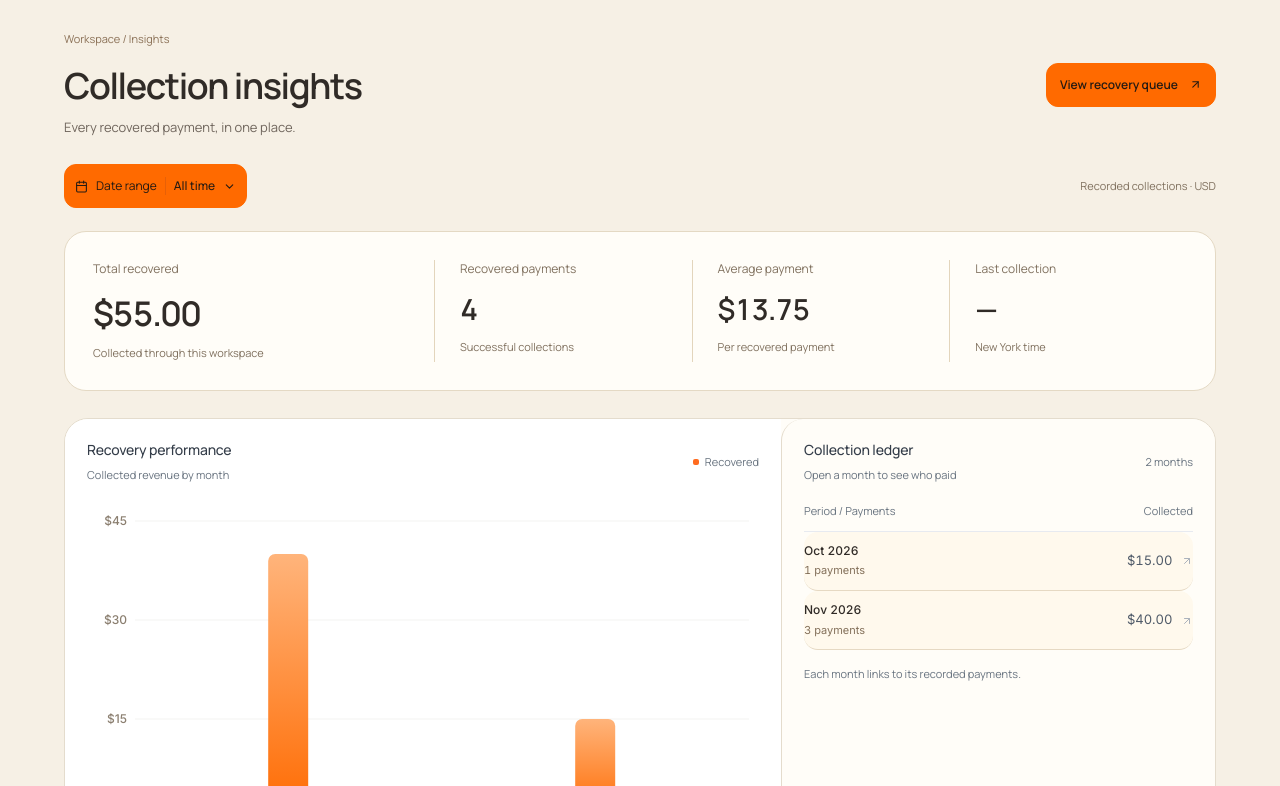
it: historical gaps and request failures are explicit instead of invented details
This screenshot has width=1280, height=786.
What coordinates should you click on to do the following:
click the button "Nov 2026 3 payments $40.00"
I would click on:
 (833, 609)
Its box is [804,591,1193,650].
(page scrolled)
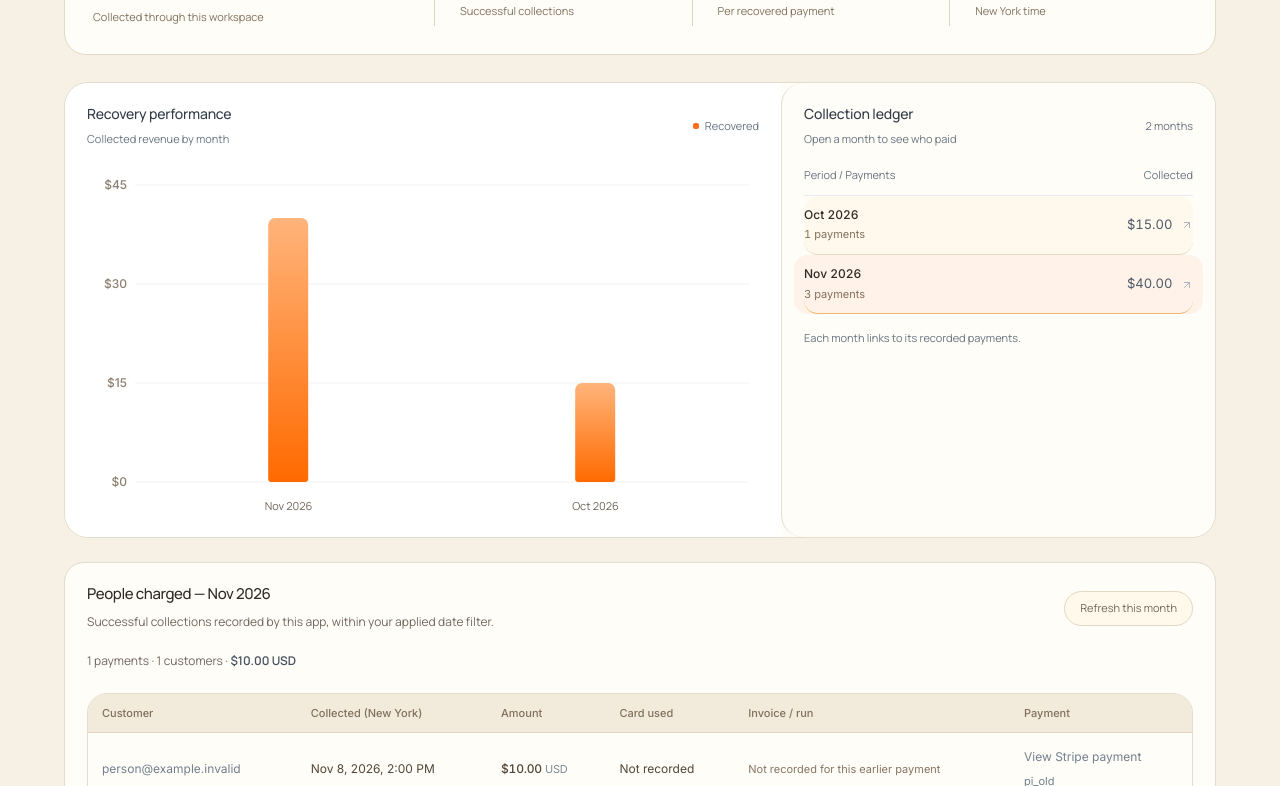
Check: the text "Not recorded for this earlier payment" is shown, box [748,762,940,776]
What coordinates should you click on to do the following:
click the button "Oct 2026 1 payments $15.00"
I would click on:
 (831, 214)
Its box is [804,196,1193,255].
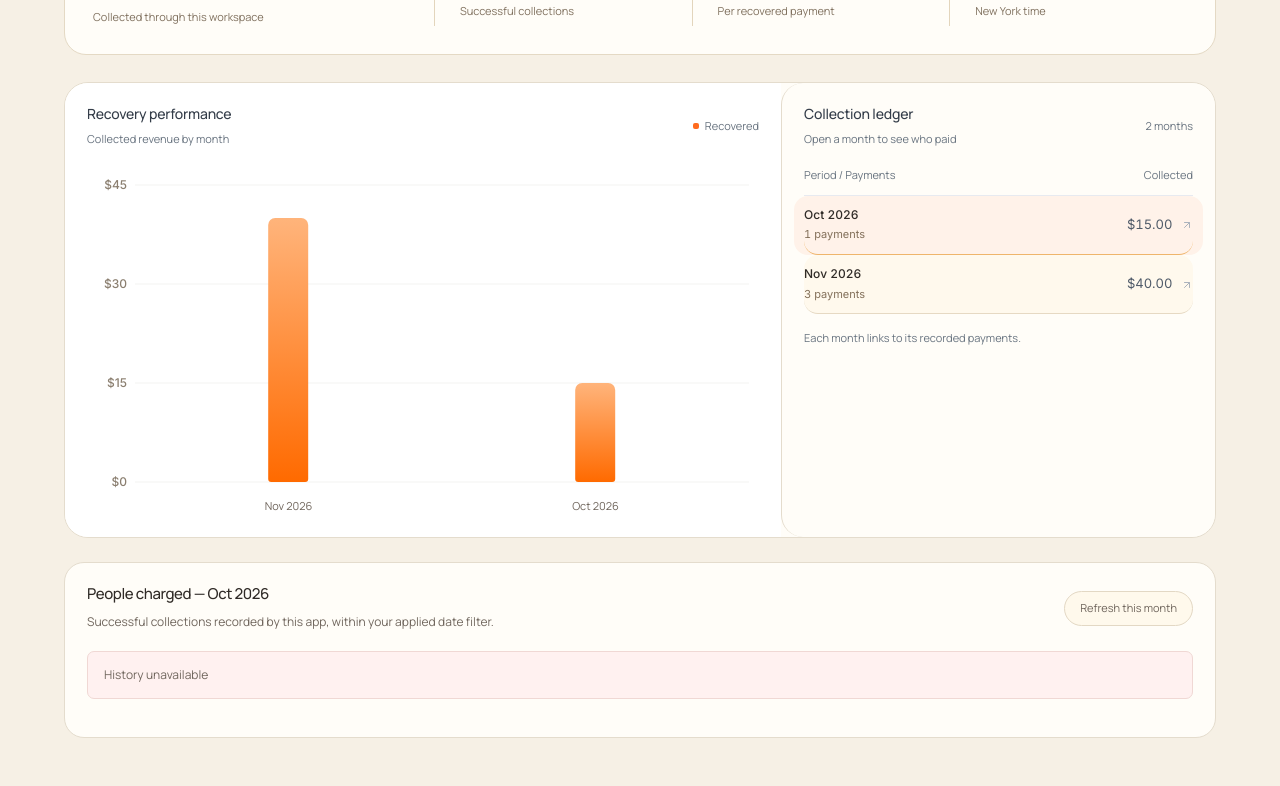
Check: the text "History unavailable" is shown, box [87,651,1193,699]
Check: no rows are shown
